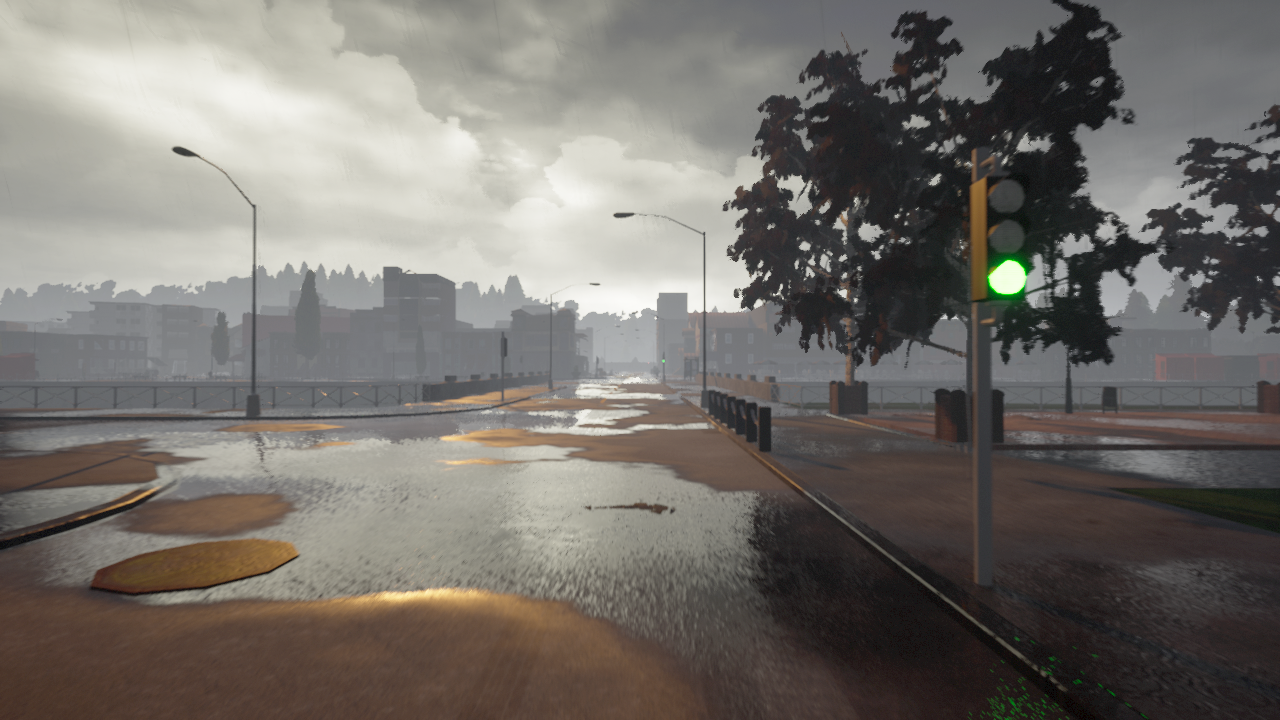green: (971, 174, 1033, 307)
